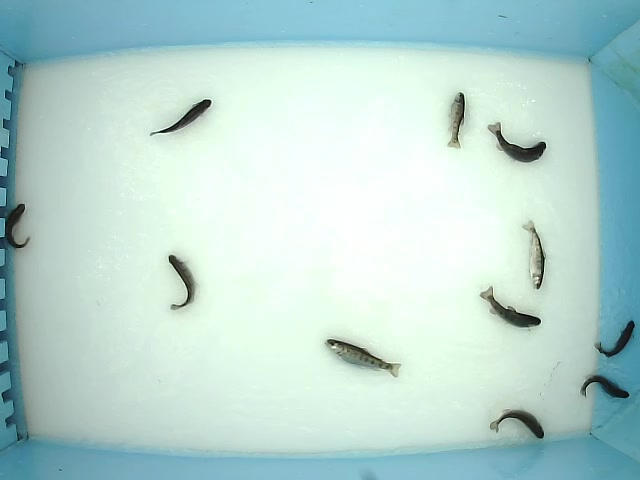fish: (324, 338, 402, 380), (479, 285, 542, 333), (486, 121, 548, 165), (149, 99, 212, 138), (520, 219, 547, 291), (167, 253, 199, 312), (489, 408, 545, 440), (593, 319, 636, 358), (3, 202, 31, 250), (578, 375, 631, 400), (446, 91, 466, 151)
